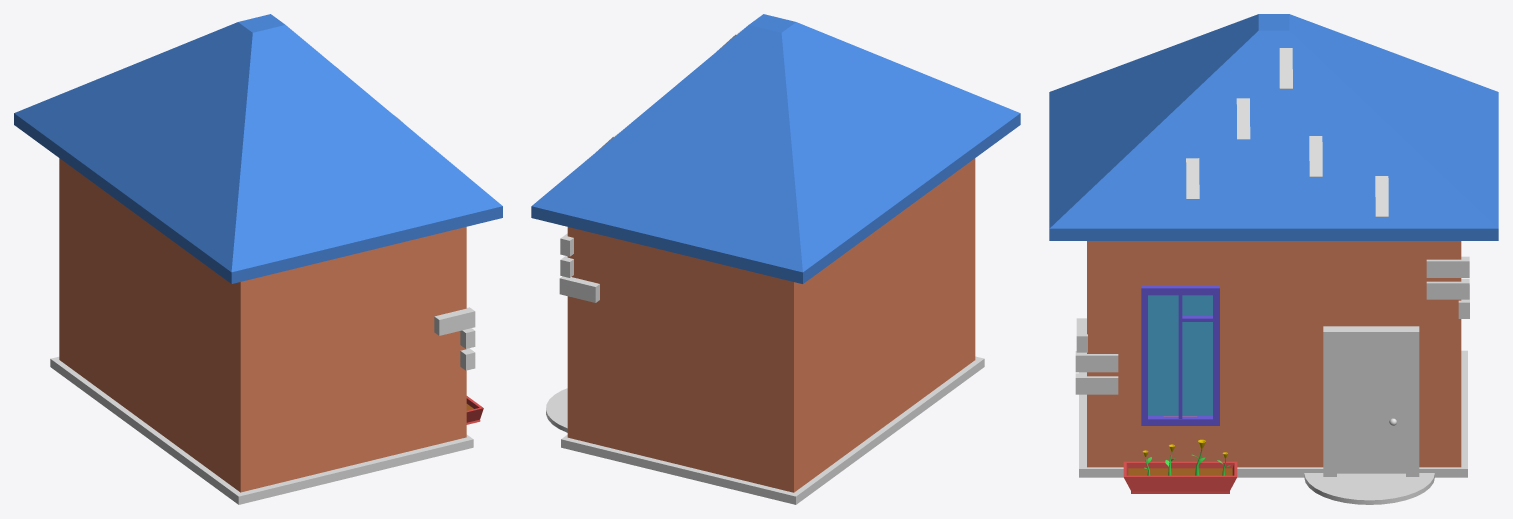
File: House.fbx
3 renders of one model, left to right at view 1: azimuth 30°, elevation 25°; view 2: azimuth 150°, elevation 25°; view 3: azimuth 270°, elevation 25°, orthographic. The views are drawn at different scales.
Visible parts, largest first — view 1: Cube, Cube.009, Cube.006; view 2: Cube, Cube.009, Cube.007, Cylinder; view 3: Cube, Cube.001, Cube.008, Cylinder, Cube.009, Cube.004, Cube.002, Cube.003, Cube.005, Cube.039, Cube.040, Cube.044 (+2 smaller).
Part boxes in pixels (x1,y1,x2,y2): Cube: [14, 14, 502, 492]; Cube.009: [50, 356, 473, 504]; Cube.006: [434, 307, 475, 335]; Cube: [531, 14, 1020, 492]; Cube.009: [561, 356, 984, 504]; Cube.007: [559, 276, 599, 302]; Cylinder: [546, 388, 567, 432]; Cube: [1049, 14, 1498, 467]; Cube.001: [1323, 326, 1419, 476]; Cube.008: [1123, 461, 1237, 493]; Cylinder: [1304, 473, 1434, 504]; Cube.009: [1079, 350, 1467, 477]; Cube.004: [1075, 373, 1118, 394]; Cube.002: [1426, 278, 1469, 299]; Cube.003: [1426, 256, 1469, 277]; Cube.005: [1075, 351, 1118, 372]; Cube.039: [1375, 176, 1388, 217]; Cube.040: [1309, 136, 1322, 177]; Cube.044: [1186, 158, 1199, 199].
Bounding box in the file's own units: 567 × 669 × 687.
